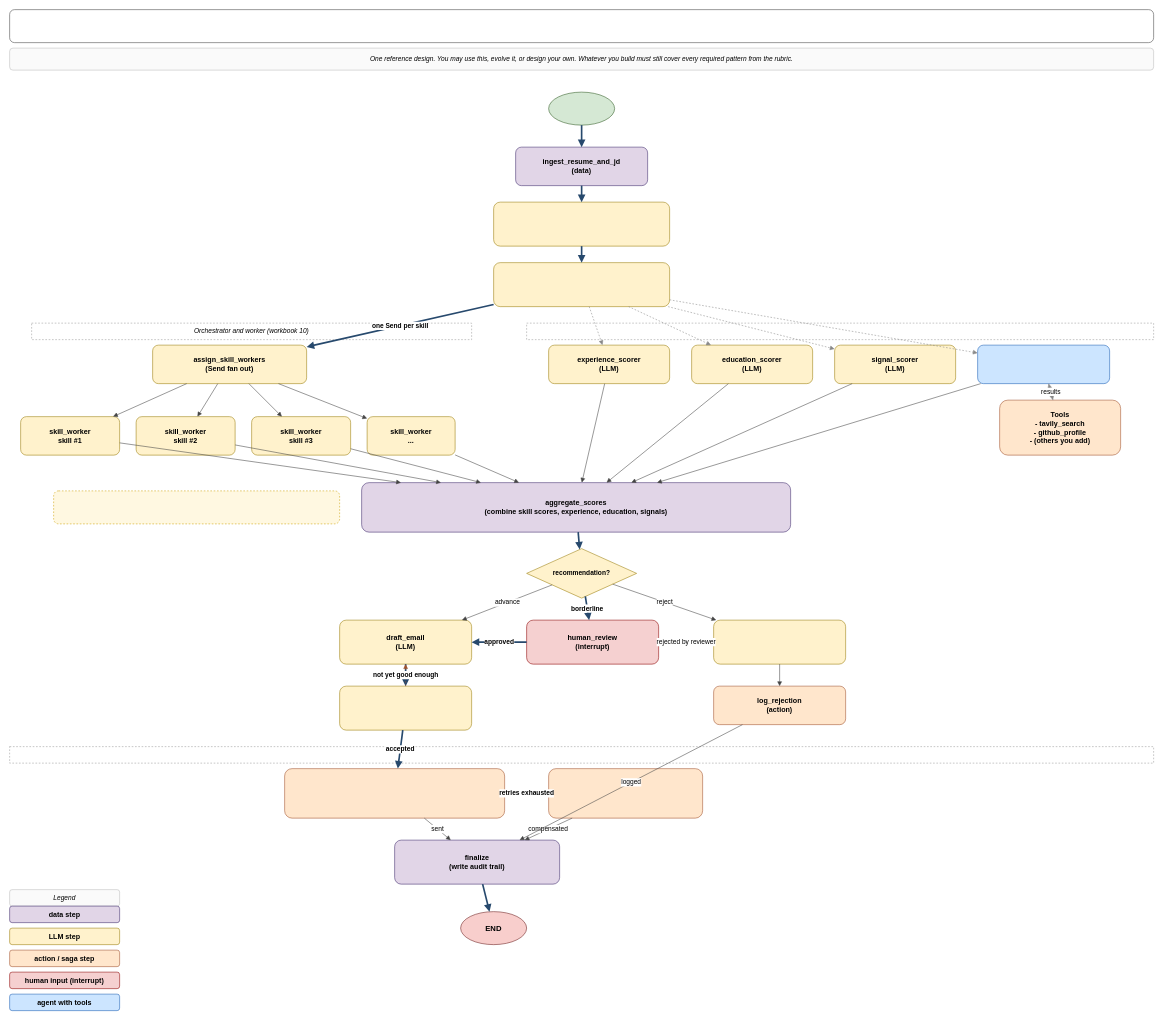
The diagram is 1163 pixels wide and 1020 high, and some of its shapes have lost their labels. The box of each missing label's shape, as (x1, y1, x2, y2) in pixels:
classify_seniority (LLM, with_structured_output): (493, 202, 670, 246)
compensate (rollback, alert engineer): (548, 768, 703, 818)
critic_loop (evaluator + optimizer, max 3 attempts): (339, 686, 472, 730)
draft_rejection (LLM): (713, 620, 846, 664)
HireGraph reference architecture: (9, 9, 1154, 43)
Parallelization with reducer (workbook 08): (526, 323, 1154, 340)
plan_required_skills (LLM, with_structured_output): (493, 262, 670, 307)
Reducer on completed_scores Annotated[list, operator.add]: (53, 490, 340, 524)
research_agent (agent + tools): (977, 345, 1110, 384)
Saga / compensation (workbook 04): (9, 746, 1154, 763)
send_email + update_ats (RetryPolicy, retry_on=ConnectionError): (284, 768, 505, 818)
START: (548, 92, 615, 125)
